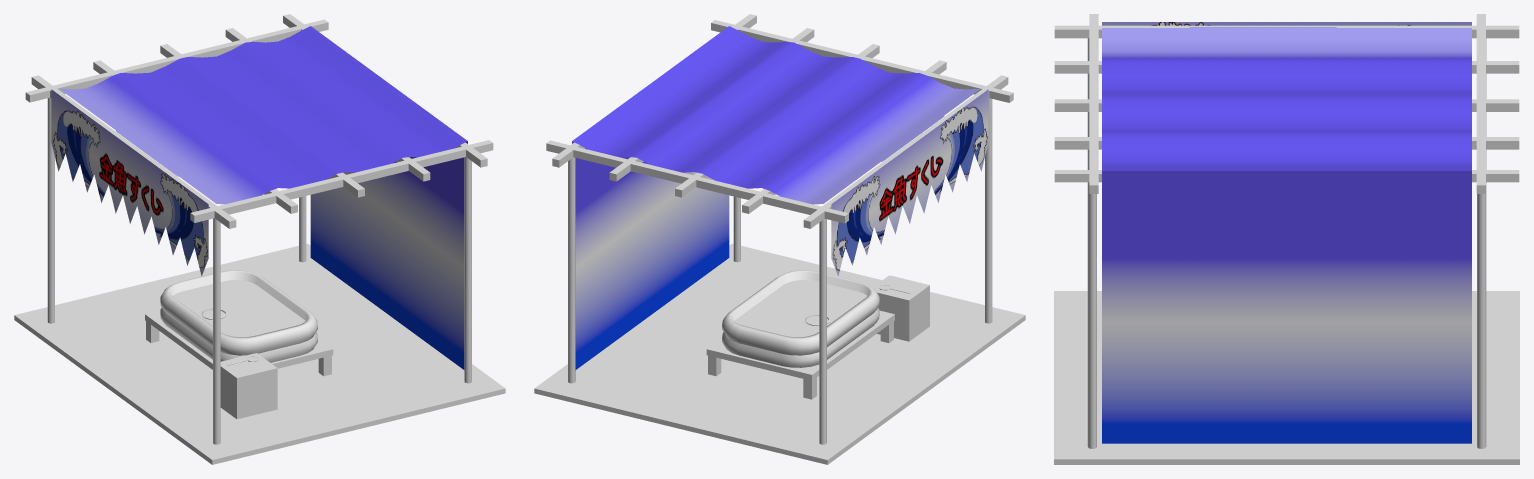
File: Goldfish scooping stand.fbx
3 renders of one model, left to right at view 1: azimuth 30°, elevation 25°; view 2: azimuth 150°, elevation 25°; view 3: azimuth 270°, elevation 25°, orthographic. The views are drawn at different scales.
Parts seen in each view (by area): view 1: GoldfishStandCanvas, Plane, Cube, Plane.002, Cylinder, Cube.010, Cube.005, Cube.006, Cylinder.001, Cube.001, Cube.003, Cube.009 (+3 smaller); view 2: GoldfishStandCanvas, Plane, Cube, Plane.002, Cylinder, Cube.006, Cube.010, Cylinder.001, Cube.005, Cube.001, Cube.003, Cube.002 (+4 smaller); view 3: GoldfishStandCanvas, Plane, Cylinder.001, Cube.003, Cube.006, Cube.005, Cube.008, Cube.007, Cube.009, Cube.004.
Boxes of the visible parts, bbox=[...] form: GoldfishStandCanvas: bbox=[51, 26, 467, 369]; Plane: bbox=[14, 243, 505, 464]; Cube: bbox=[160, 270, 317, 362]; Plane.002: bbox=[173, 280, 305, 337]; Cylinder: bbox=[47, 98, 220, 444]; Cube.010: bbox=[220, 353, 277, 419]; Cube.005: bbox=[190, 140, 493, 222]; Cube.006: bbox=[25, 19, 328, 102]; Cylinder.001: bbox=[299, 157, 471, 383]; Cube.001: bbox=[145, 310, 333, 369]; Cube.003: bbox=[31, 75, 236, 228]; Cube.009: bbox=[225, 28, 430, 181]; GoldfishStandCanvas: bbox=[572, 26, 988, 369]; Plane: bbox=[534, 243, 1025, 464]; Cube: bbox=[722, 270, 879, 367]; Plane.002: bbox=[734, 280, 866, 337]; Cylinder: bbox=[819, 98, 992, 444]; Cube.006: bbox=[546, 140, 848, 223]; Cube.010: bbox=[873, 275, 929, 341]; Cylinder.001: bbox=[568, 157, 740, 383]; Cube.005: bbox=[711, 20, 1013, 102]; Cube.001: bbox=[706, 310, 894, 380]; Cube.003: bbox=[803, 75, 1008, 228]; Cube.002: bbox=[708, 321, 893, 399]; GoldfishStandCanvas: bbox=[1102, 22, 1471, 443]; Plane: bbox=[1054, 291, 1519, 464]; Cylinder.001: bbox=[1087, 182, 1486, 448]; Cube.003: bbox=[1054, 25, 1519, 38]; Cube.006: bbox=[1476, 14, 1485, 193]; Cube.005: bbox=[1089, 14, 1098, 193]; Cube.008: bbox=[1054, 99, 1519, 111]; Cube.007: bbox=[1054, 61, 1519, 73]; Cube.009: bbox=[1054, 137, 1519, 149]; Cube.004: bbox=[1054, 170, 1519, 182].
Size of the model in its own units: 393 by 304 by 452.
